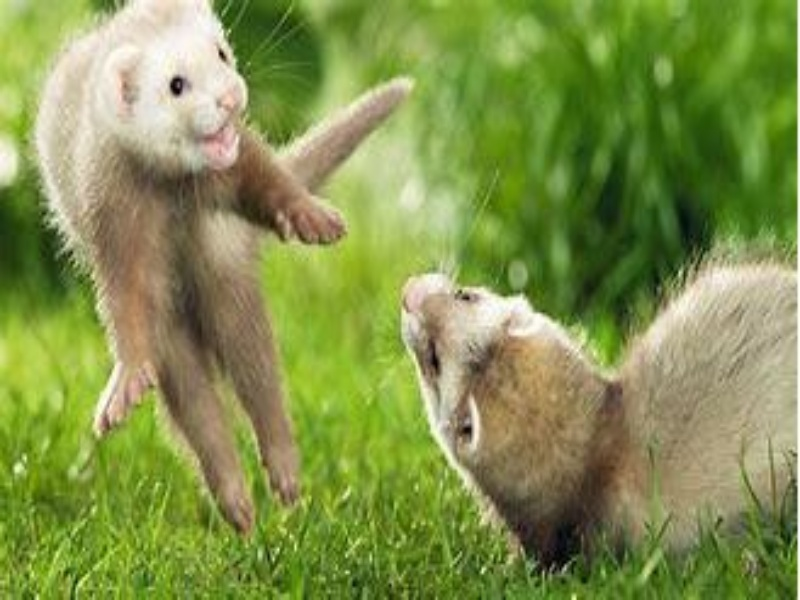minkish: (31, 7, 412, 539), (393, 215, 800, 573)
